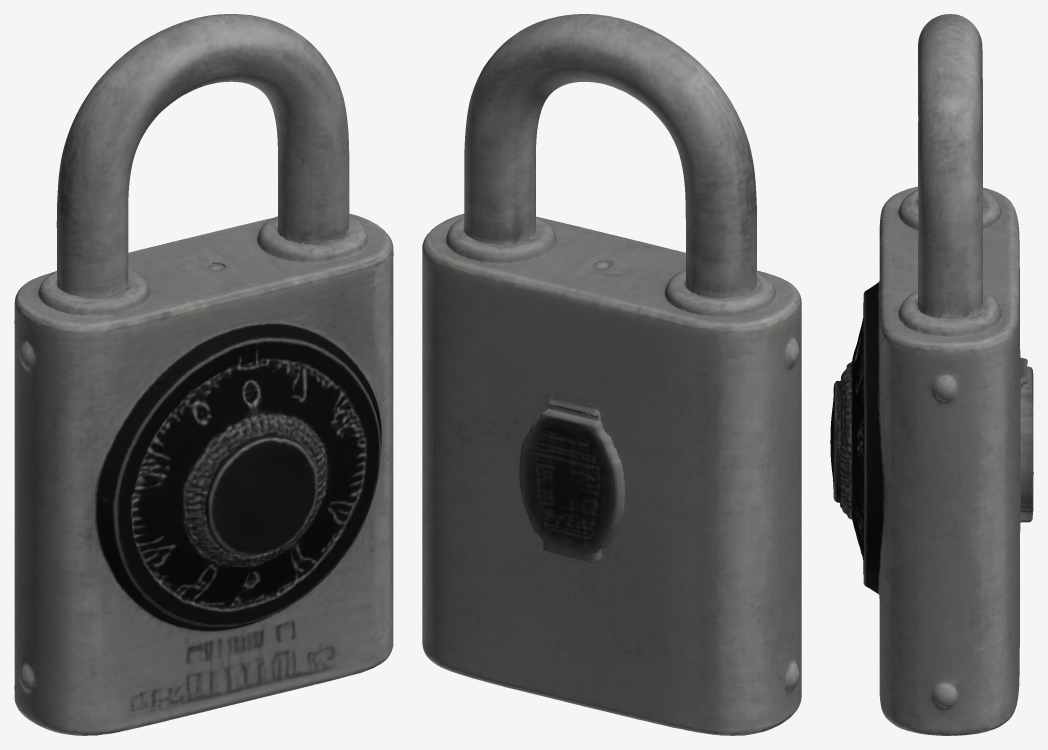
3 views of the same model, side by side, from view 1: azimuth 30°, elevation 25°; view 2: azimuth 150°, elevation 25°; view 3: azimuth 270°, elevation 25° (orthographic). The views are drawn at different scales.
Visible parts, largest first — view 1: geometry_0; view 2: geometry_0; view 3: geometry_0.
Boxes of the visible parts, left/top/right/bottom form: geometry_0: left=14, top=14, right=393, bottom=735; geometry_0: left=422, top=14, right=801, bottom=735; geometry_0: left=830, top=14, right=1033, bottom=735.
Bounding box in the file's own units: 0.0493 × 0.085 × 0.0248.
Materials: 1 (1 with a texture image).
